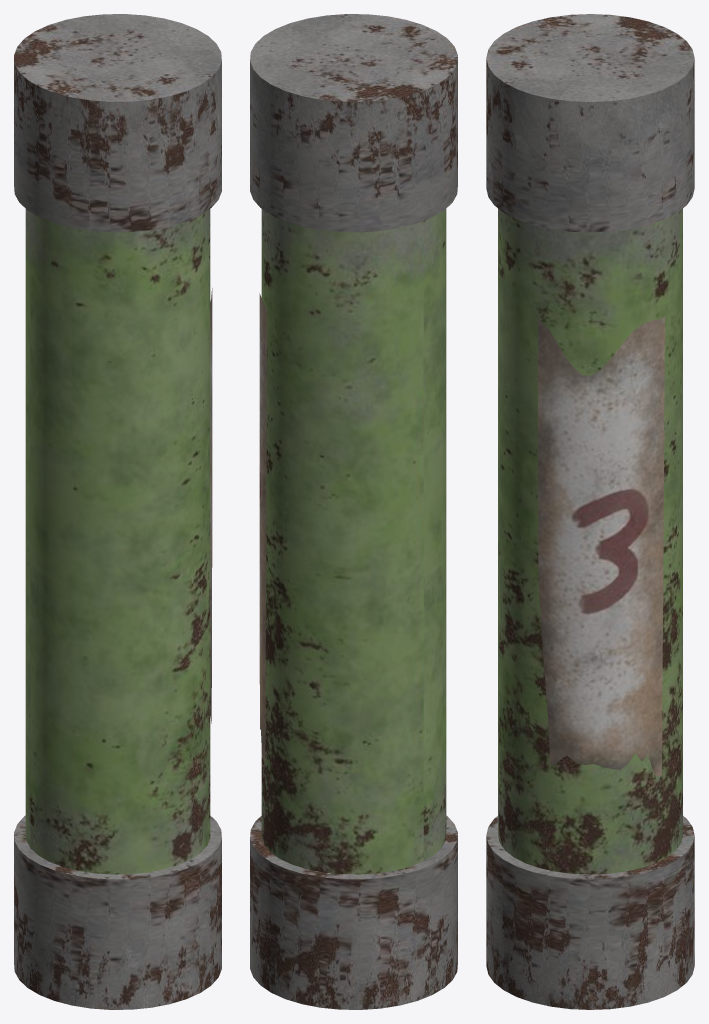
Rendered from fuzivel 3.fbx.
The picture shows the model from 3 angles, left to right: view 1: azimuth 30°, elevation 25°; view 2: azimuth 150°, elevation 25°; view 3: azimuth 270°, elevation 25°; orthographic projection.
Visible parts, largest first — view 1: Circle.001; view 2: Circle.001; view 3: Circle.001.
Boxes of the visible parts, box(x1,y1,x2,y2) form: Circle.001: box(14, 14, 221, 1009); Circle.001: box(250, 14, 457, 1009); Circle.001: box(486, 14, 694, 1009).
Bounding box in the file's own units: 8.25 × 39.65 × 8.25.
